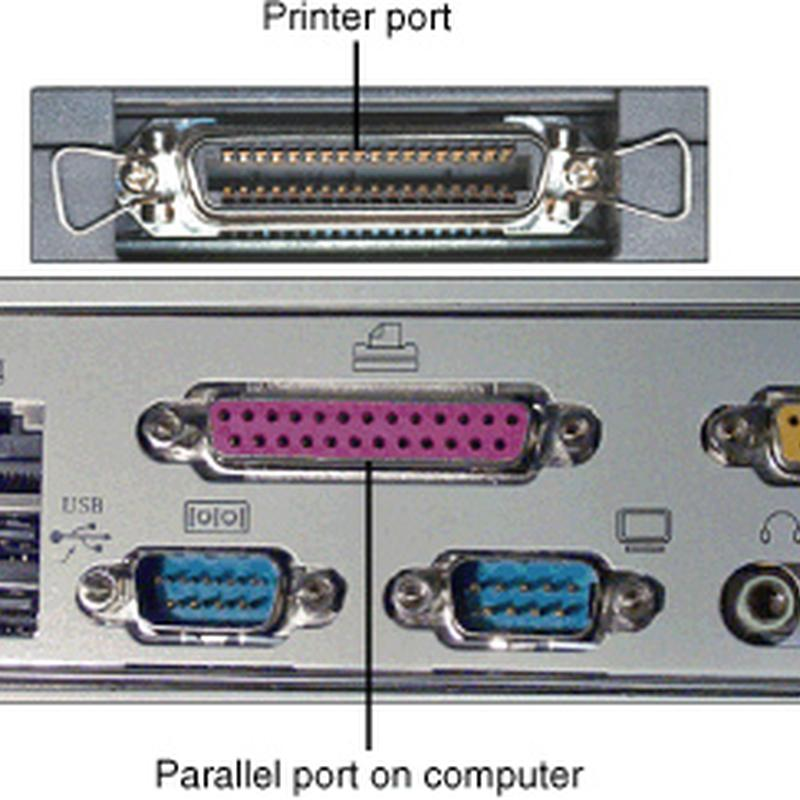AUDIO_OUTPUT: (706, 553, 799, 669)
PARALLEL: (135, 346, 622, 495)
VGA: (78, 527, 352, 667), (381, 534, 680, 660)
